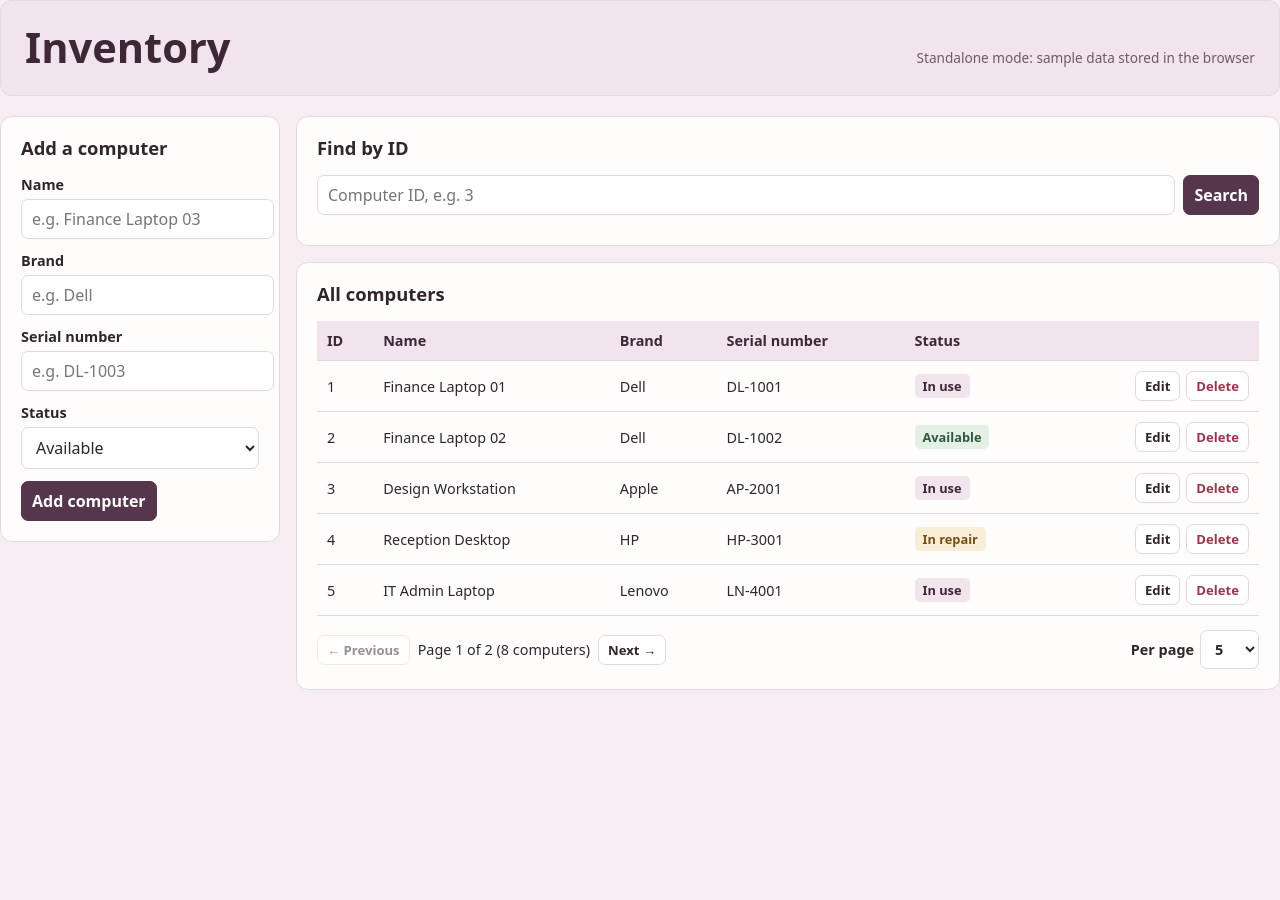
Inventory page (standalone mode) › rejects a duplicate serial number with a clear message
Clear the field labelled "Name" at (148, 219), box [21, 199, 274, 239]
Clear the field labelled "Brand" at (148, 295), box [21, 275, 274, 315]
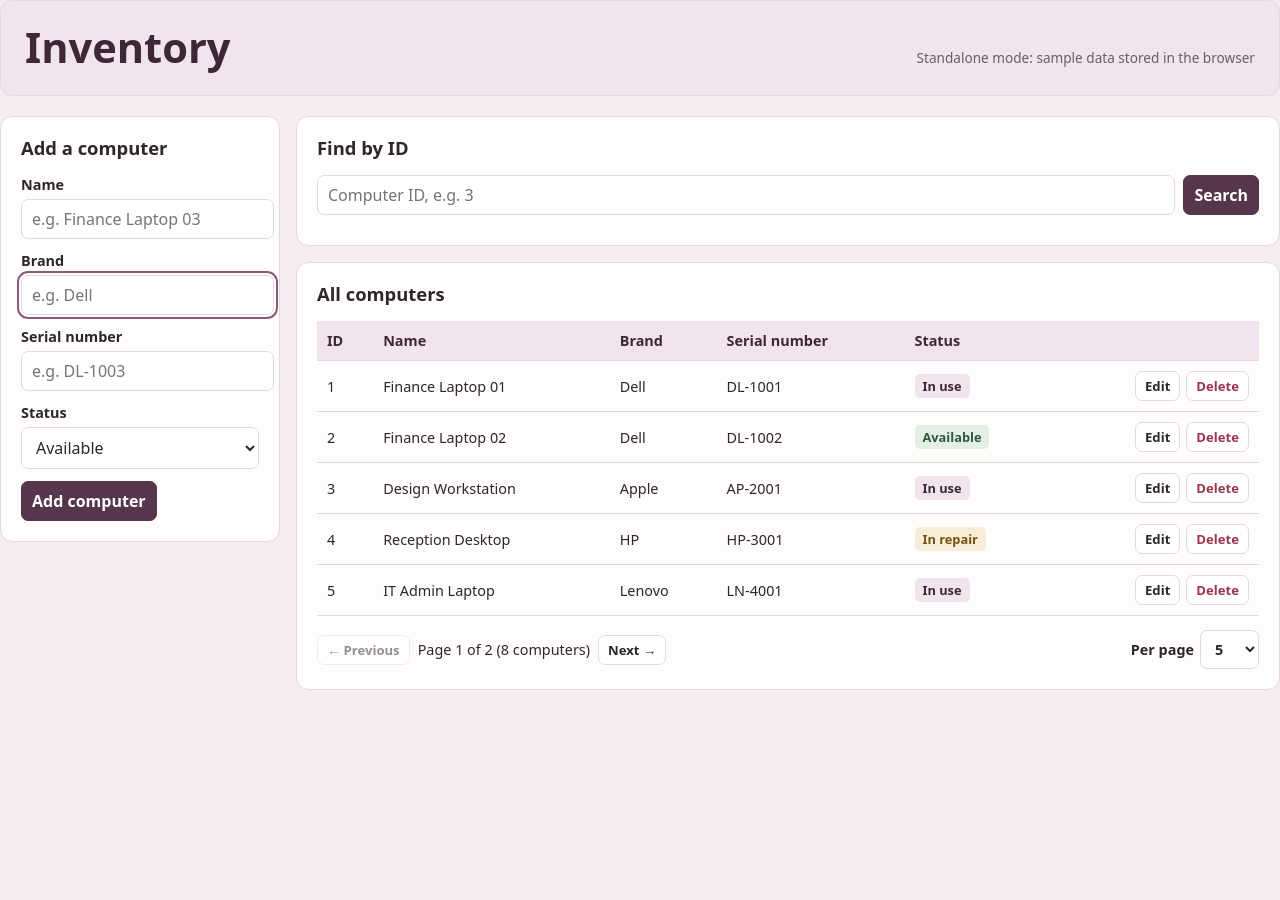
Clear the field labelled "Serial number" at (148, 371), box [21, 351, 274, 391]
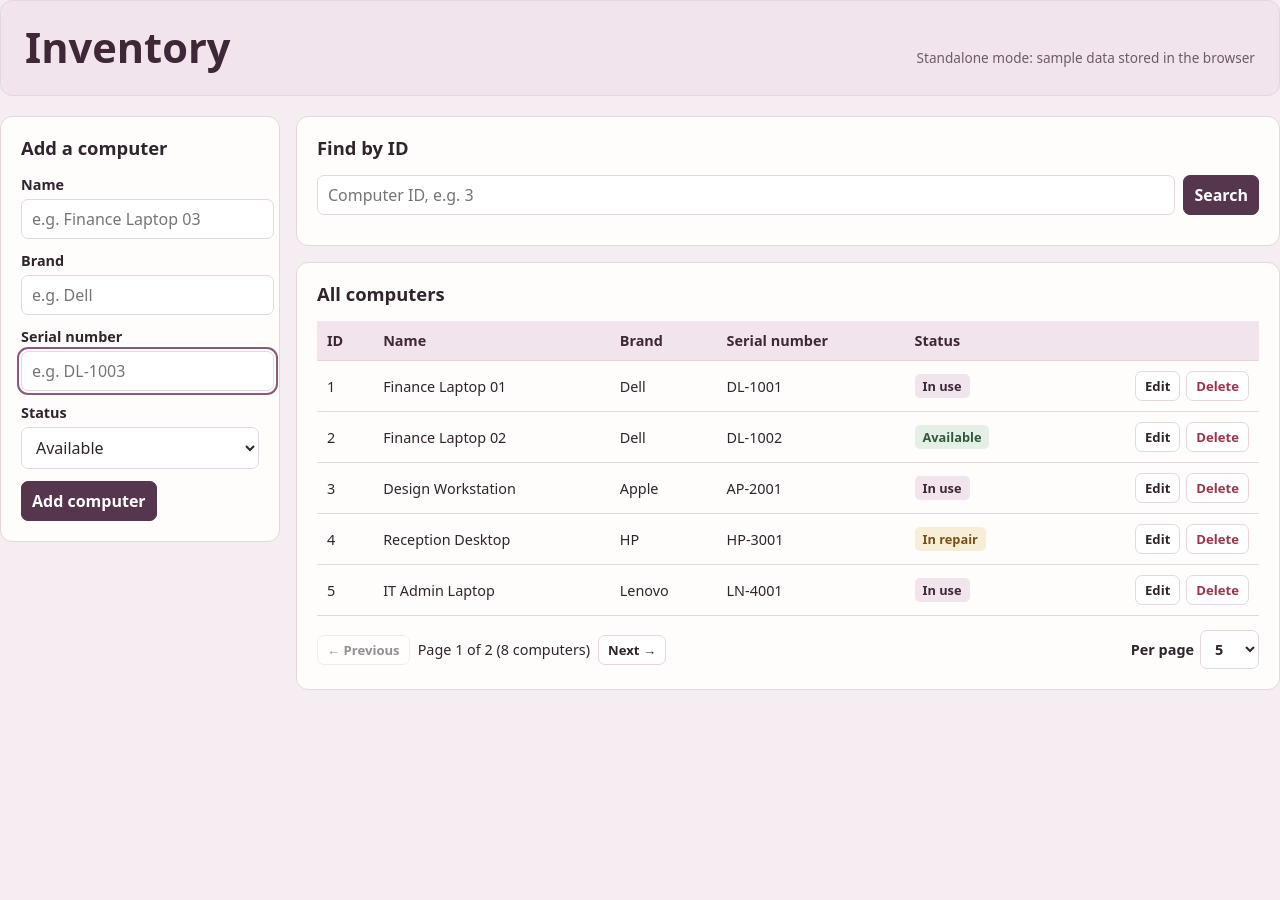
Type "Copy" into the field labelled "Name".
click(148, 219); type("Copy")  # box [21, 199, 274, 239]
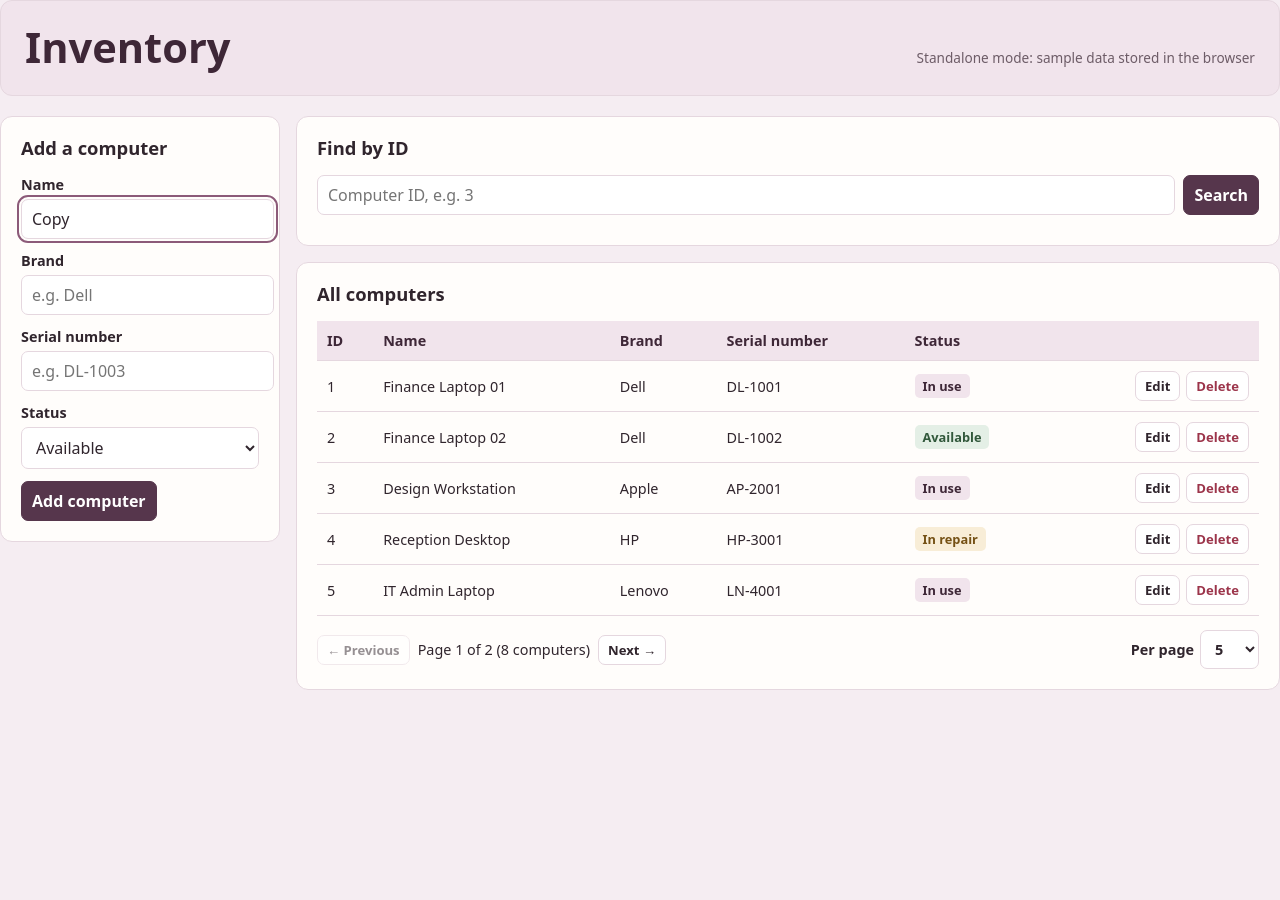
Type "Dell" into the field labelled "Brand".
click(148, 295); type("Dell")  # box [21, 275, 274, 315]
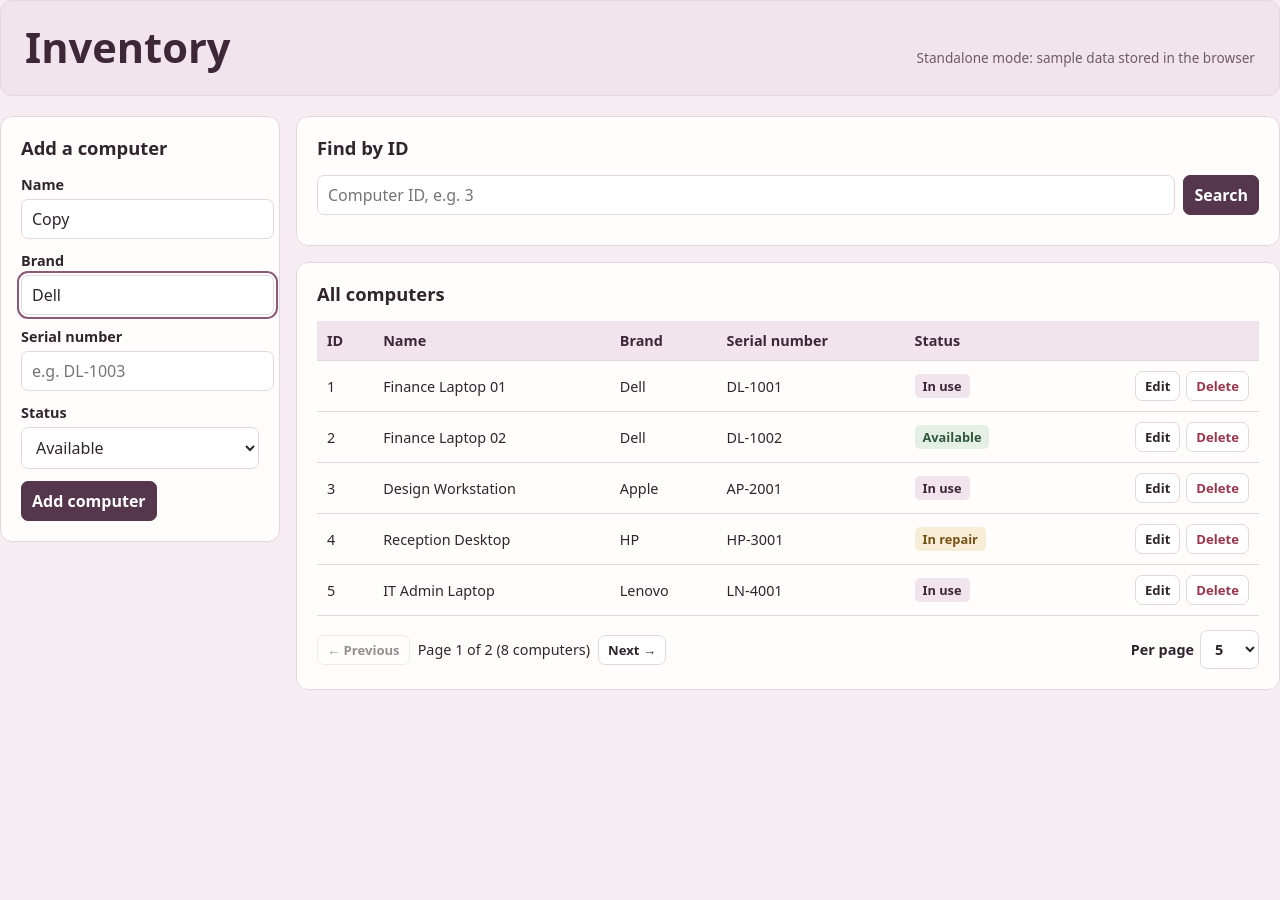
Type "DL-1001" into the field labelled "Serial number".
click(148, 371); type("DL-1001")  # box [21, 351, 274, 391]
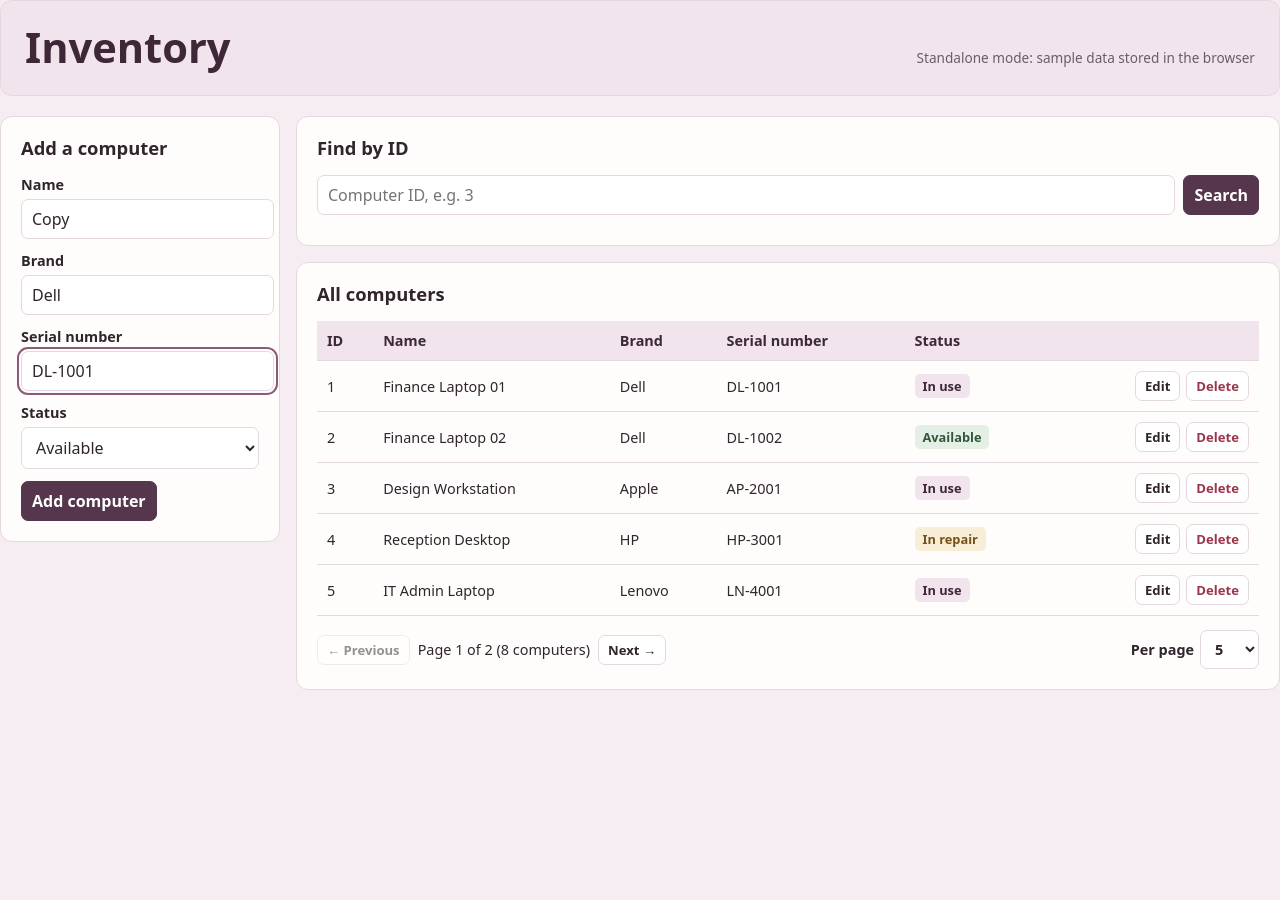
Click the button "Add computer".
click(89, 501)  # box [21, 481, 157, 521]
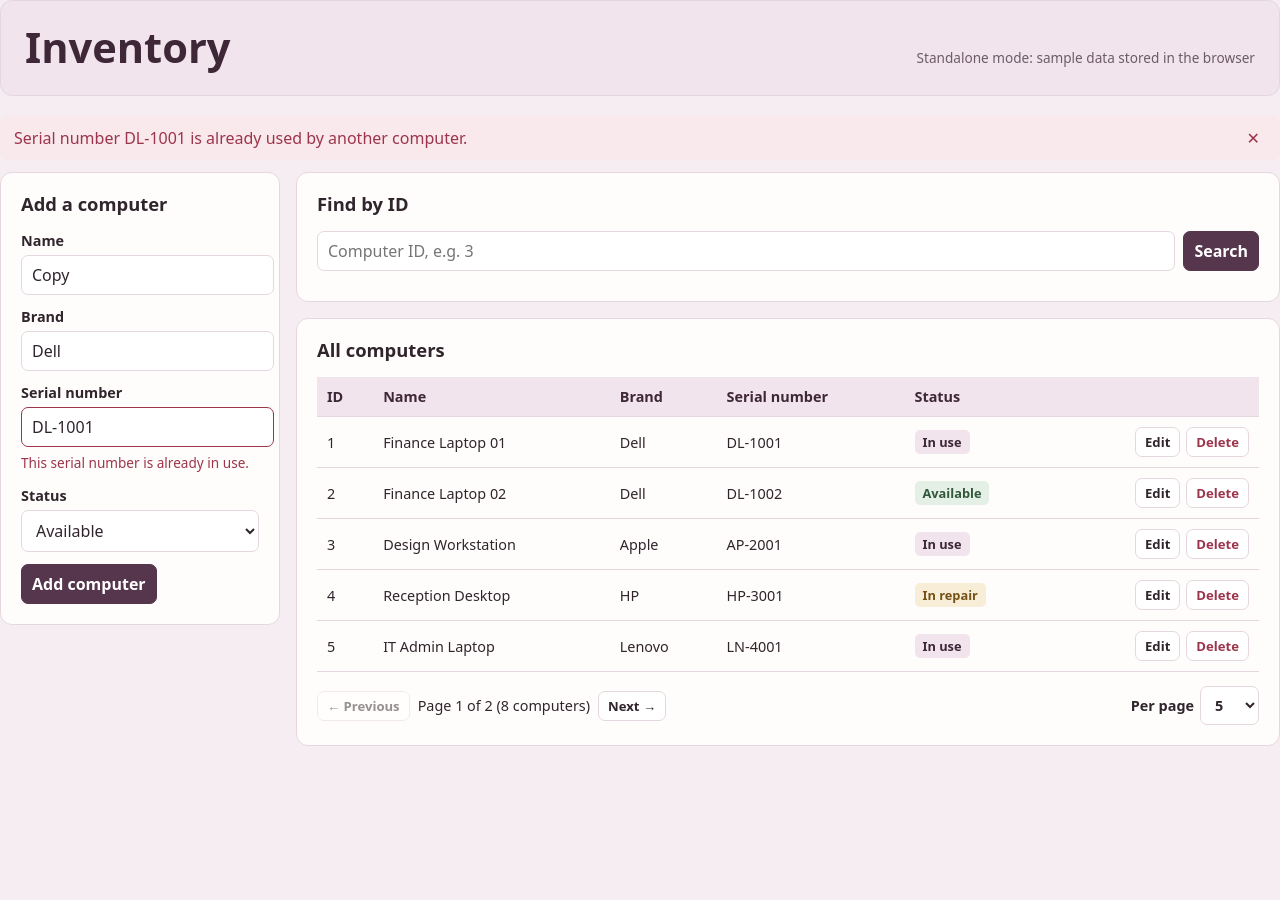
Now the message shows "DL-1001 is already used", box [14, 127, 467, 149]
Now the text "This serial number is already in use." is shown, box [21, 452, 274, 474]
